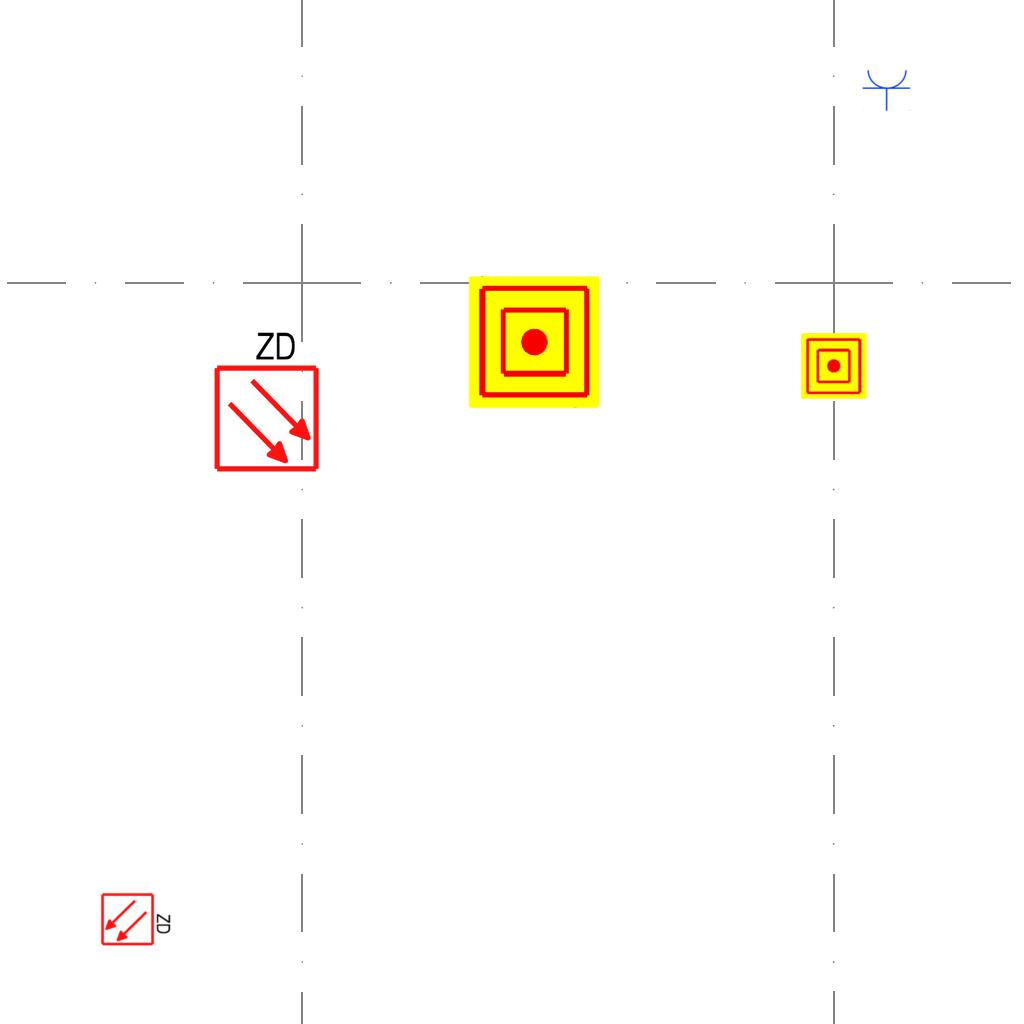NAM-Nichtautomatischer_Melder: (468, 276, 600, 408), (801, 333, 867, 399)
Schukosteckdose_einfach: (862, 68, 912, 111)
ZD_Melder_in_Zwischendecke_mit_Revisionsoeffnung_mind_40_x_40_cm: (208, 325, 322, 474), (100, 890, 174, 947)
